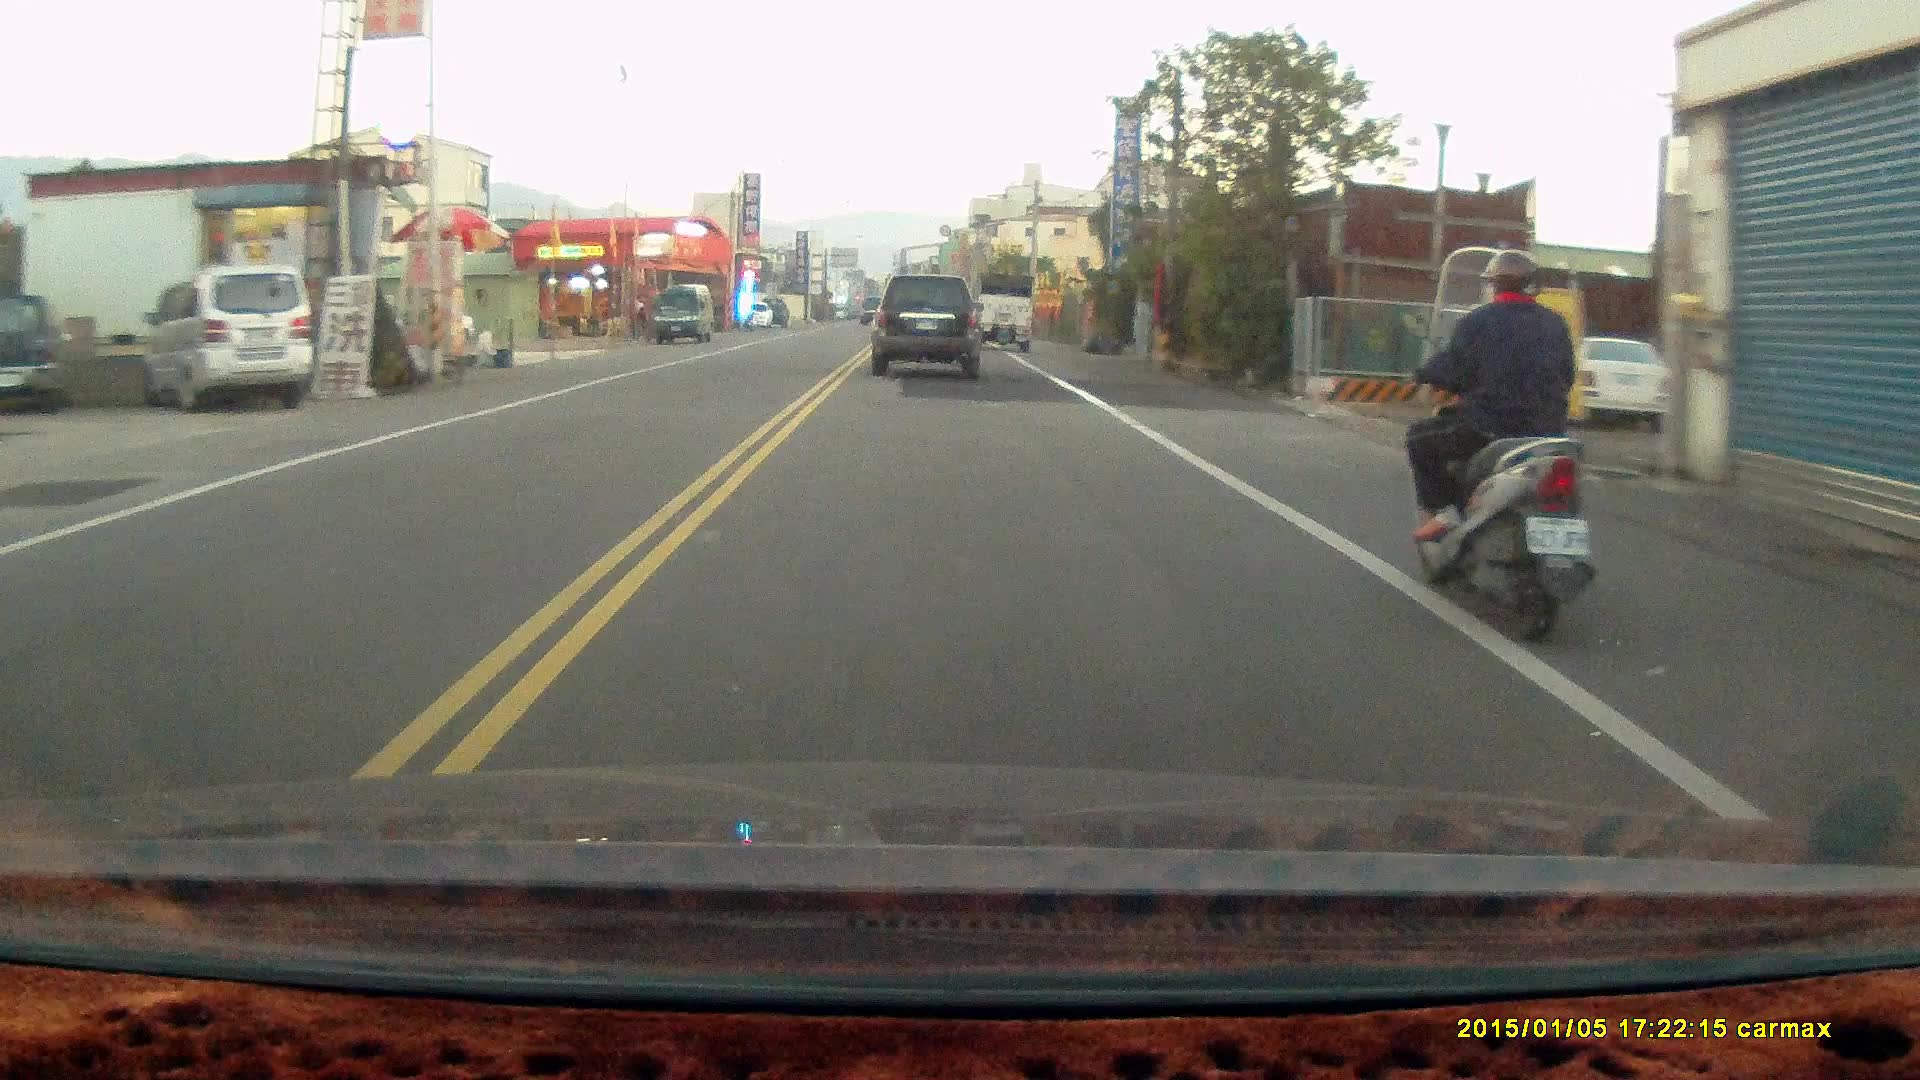rider: (1398, 245, 1596, 649)
vehicle: (149, 267, 318, 415), (873, 274, 986, 379), (1, 296, 61, 412), (974, 272, 1036, 353), (653, 285, 715, 347)
